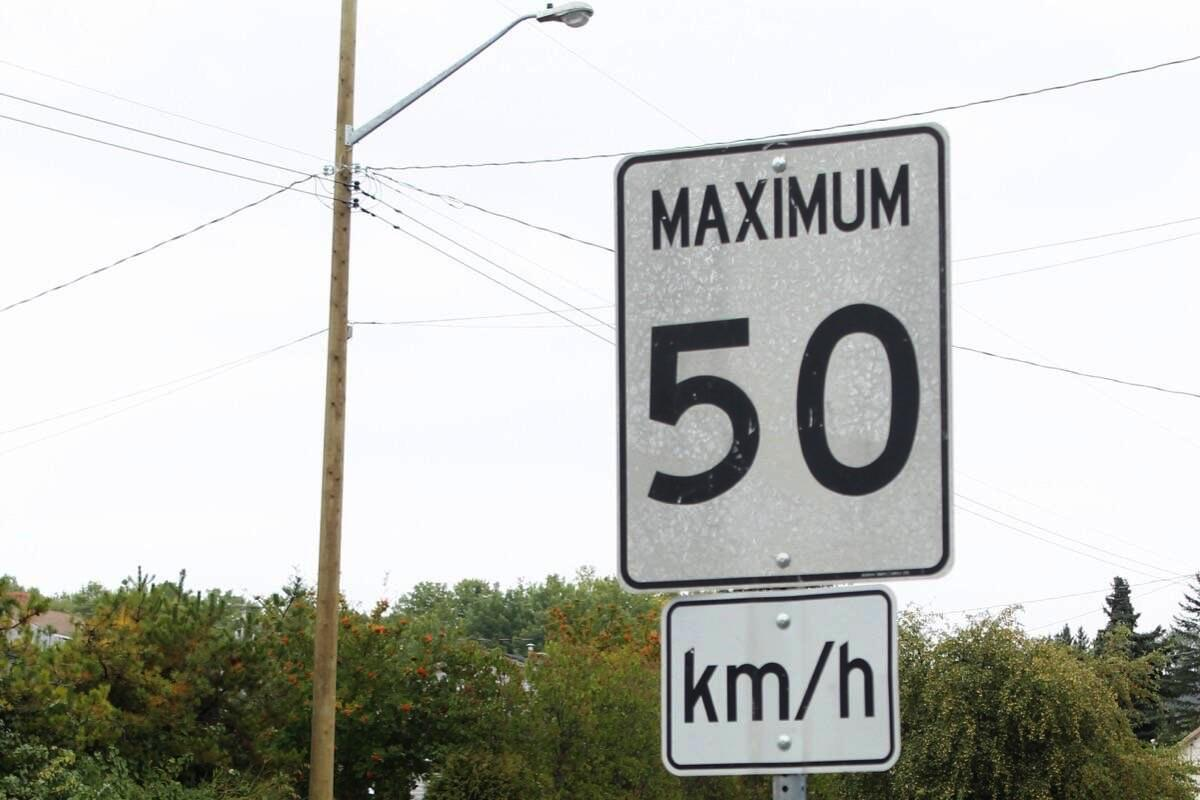speed limit sign: (613, 152, 963, 591)
